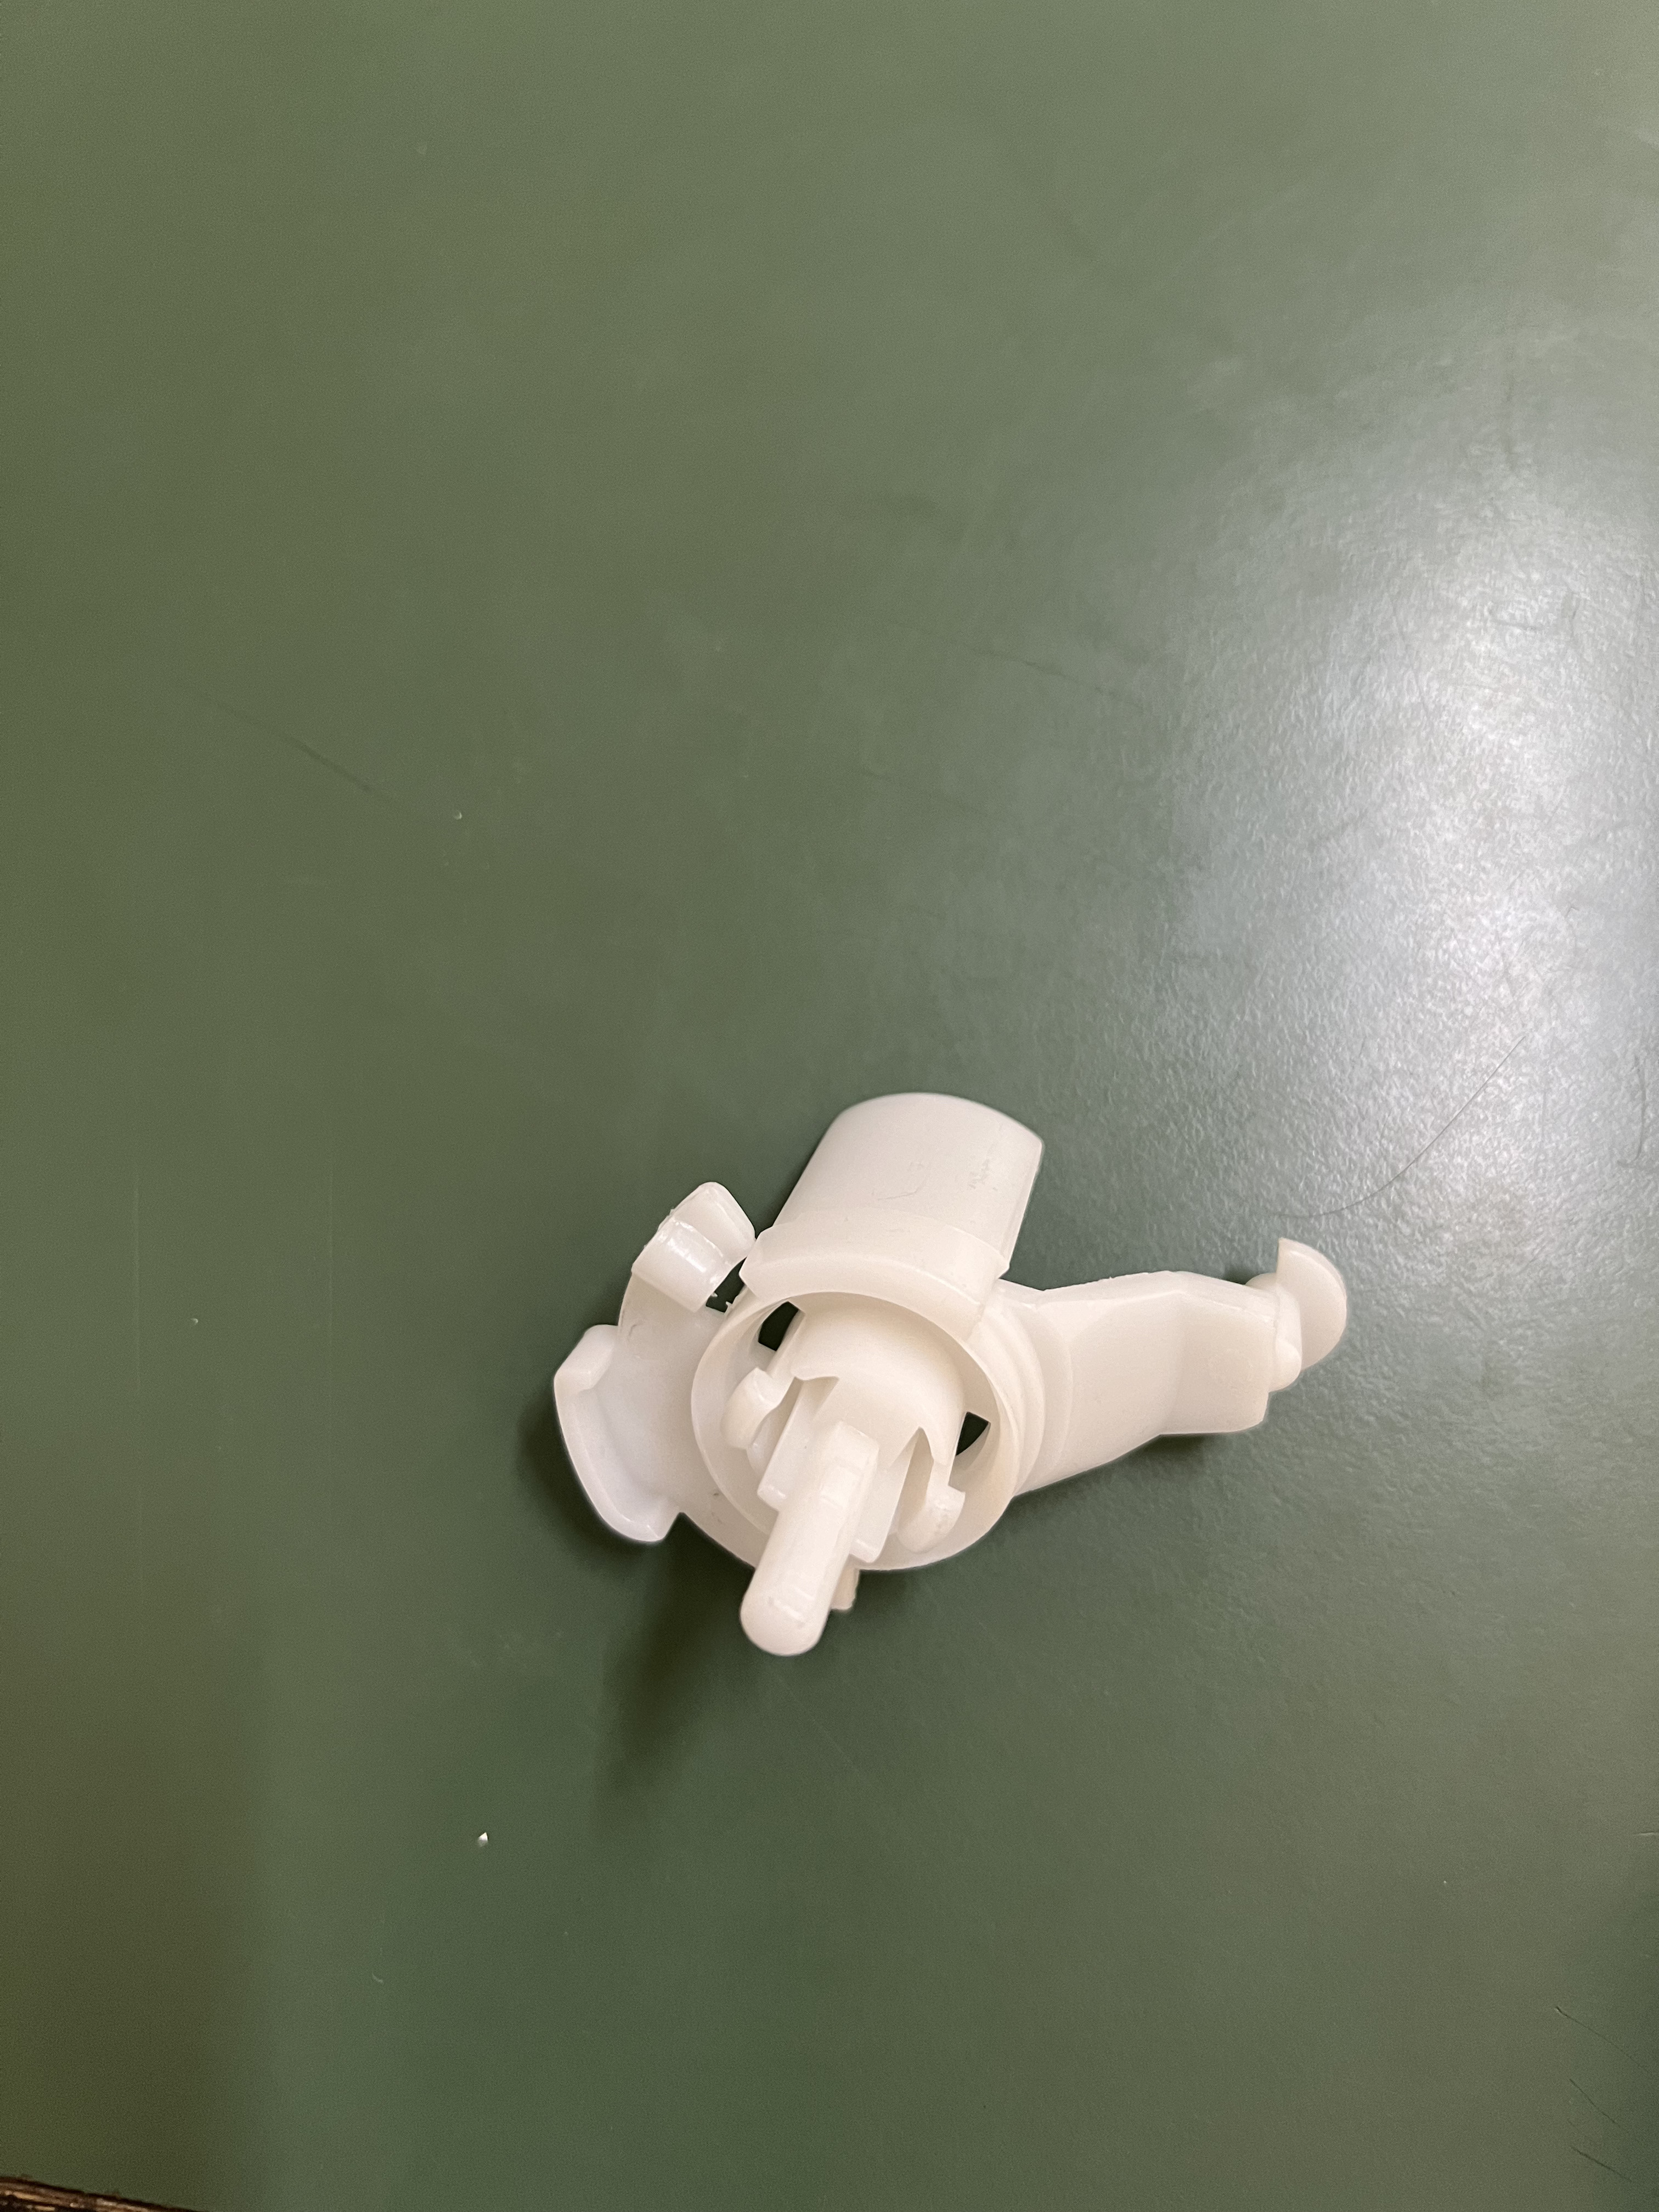drain_lever: (490, 1047, 1354, 1663)
